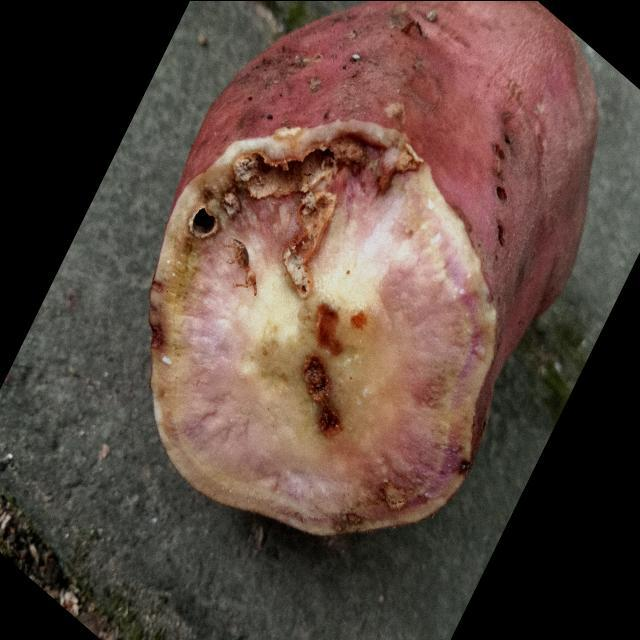Sick Sweet Potato_Tuber Rot: (149, 120, 496, 533)
